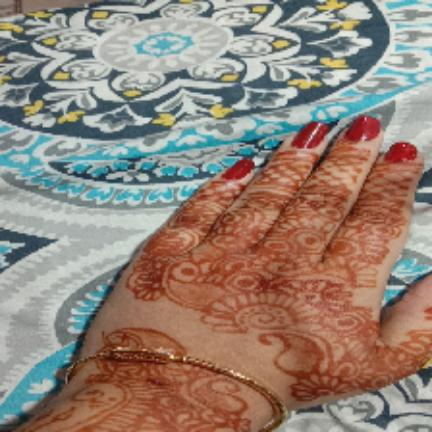Nail: (292, 121, 328, 150), (345, 116, 381, 144), (224, 158, 254, 181), (385, 142, 418, 162)
